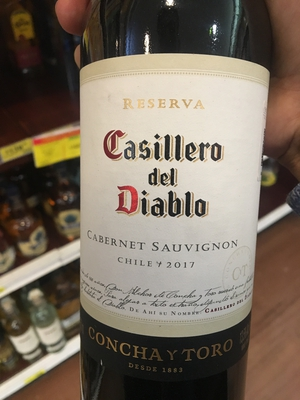casillero del diablo cabernet sauvignon: (68, 3, 270, 398)
